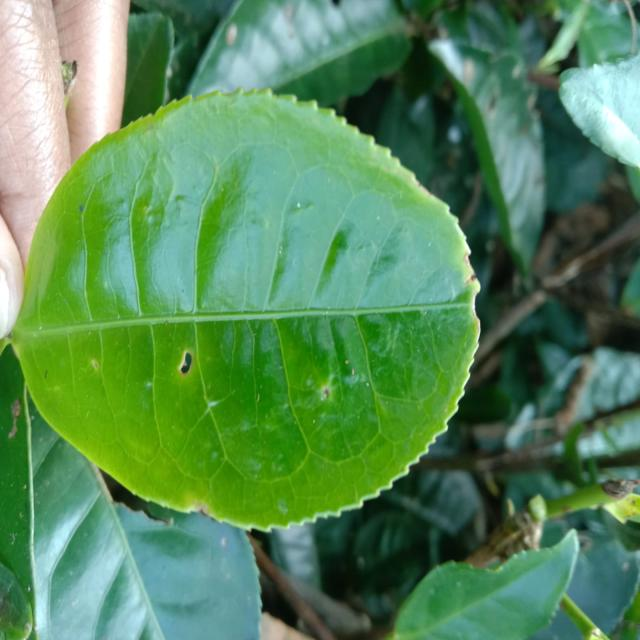Category B 2-4 days: (11, 80, 486, 535)
